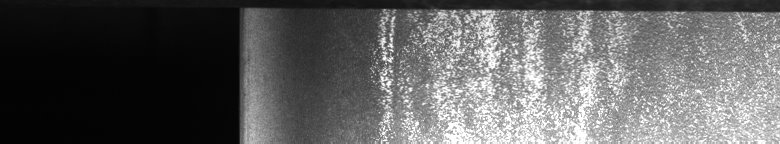kb: (369, 4, 776, 136)
